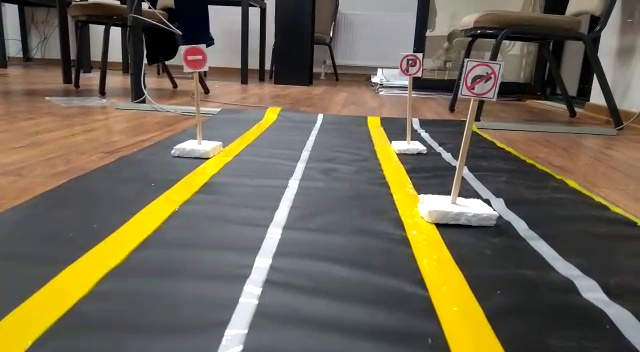girisi_olmayan_yol: (181, 43, 210, 73)
park_yapilmaz: (400, 52, 422, 77)
saga_donulmez: (462, 58, 498, 96)
